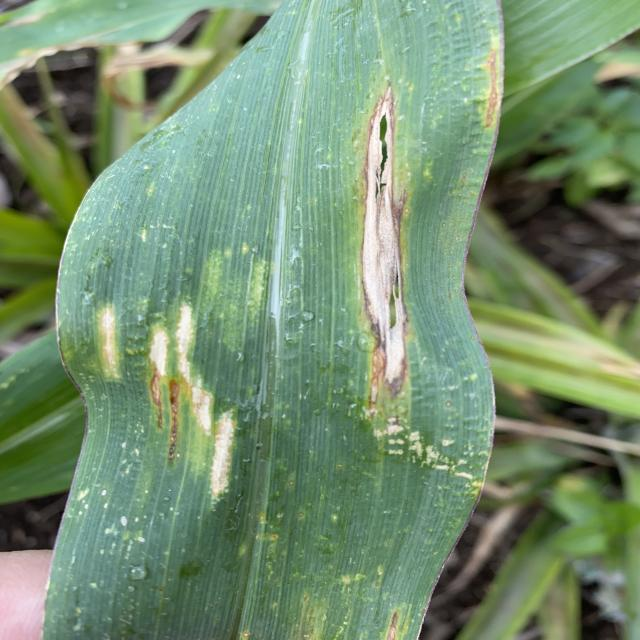Corn_Leaf_Blight: (56, 0, 502, 640)
